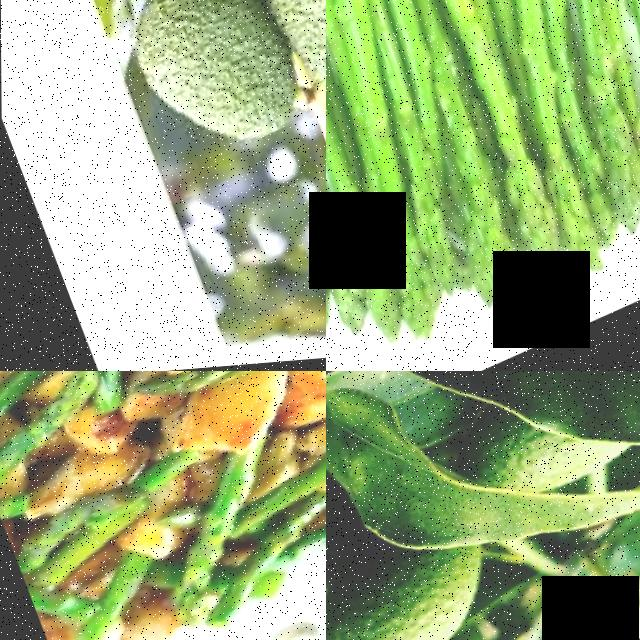asparagus: (367, 0, 587, 303), (354, 0, 541, 326), (326, 0, 479, 363), (463, 0, 640, 280), (326, 0, 418, 371), (555, 0, 640, 214), (215, 379, 326, 514), (0, 373, 111, 473), (154, 371, 326, 420)
avocado: (108, 0, 316, 192), (426, 371, 640, 554), (326, 514, 514, 640)
